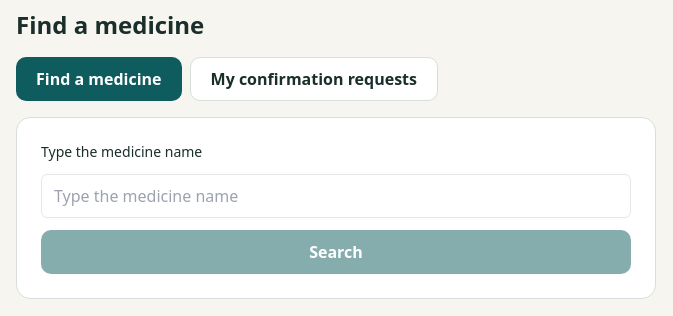
Test: pharmacy finder: search + identity › shows honest empty state for unknown medicine (no guesses)
Type "zzzqqq" into the field labelled "Type the medicine name" at (336, 196), box [41, 174, 631, 218]
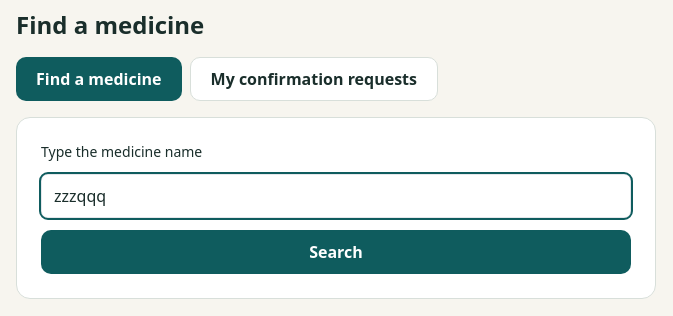
Click the button "Search" at (336, 252), box [41, 230, 631, 274]
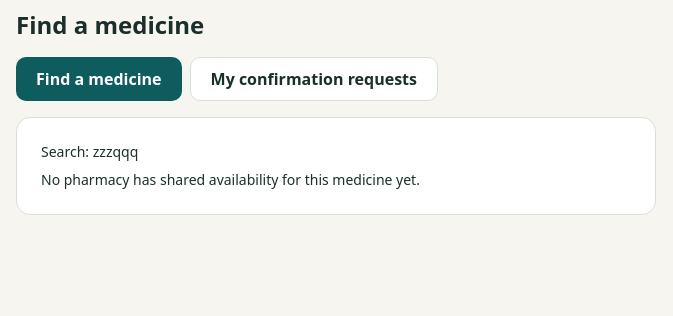
Expected: the text "No pharmacy has shared availability for this medicine yet." is shown, [41, 170, 420, 189]
